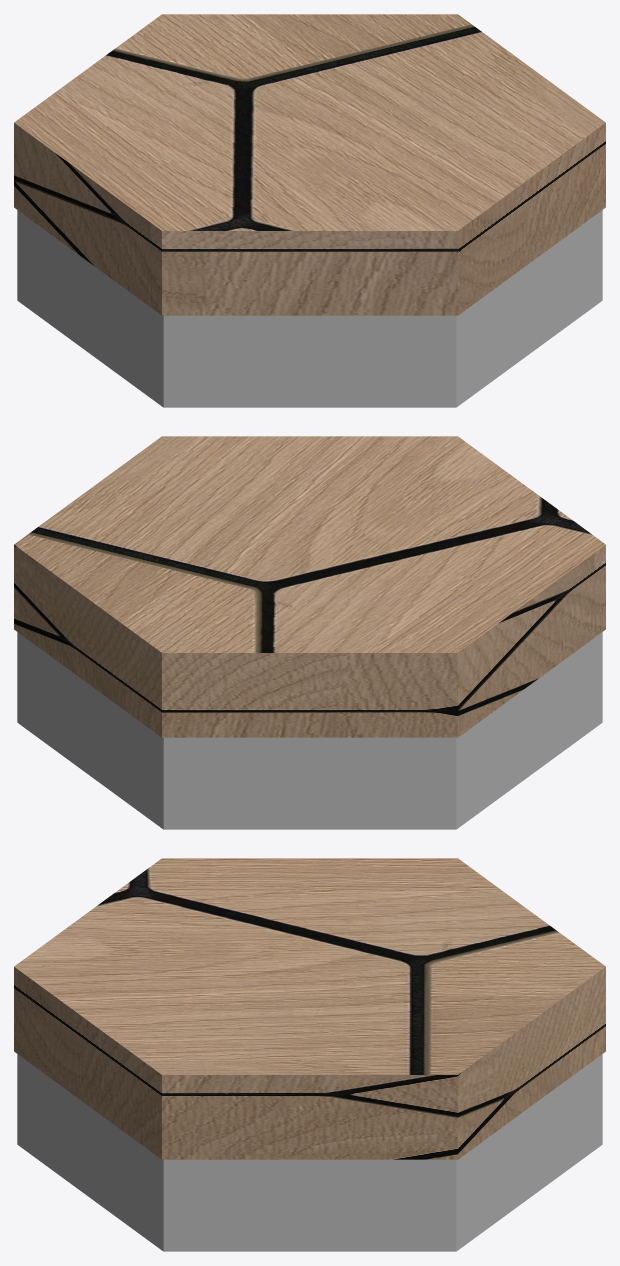
The model's file is Model17Forth.gltf.
3 renders of one model, top to bottom at view 1: azimuth 30°, elevation 25°; view 2: azimuth 150°, elevation 25°; view 3: azimuth 270°, elevation 25°, orthographic.
Visible parts, largest first — view 1: Cylinder.001, Cylinder; view 2: Cylinder.001, Cylinder; view 3: Cylinder.001, Cylinder.
Part boxes in pixels (box(x1,y1,x2,y2)): Cylinder.001: box(14, 14, 605, 315); Cylinder: box(17, 210, 602, 407); Cylinder.001: box(14, 436, 605, 737); Cylinder: box(17, 632, 602, 829); Cylinder.001: box(14, 858, 605, 1159); Cylinder: box(17, 1054, 602, 1251).
Size of the model in its own units: 2.79 by 1.07 by 3.22.
